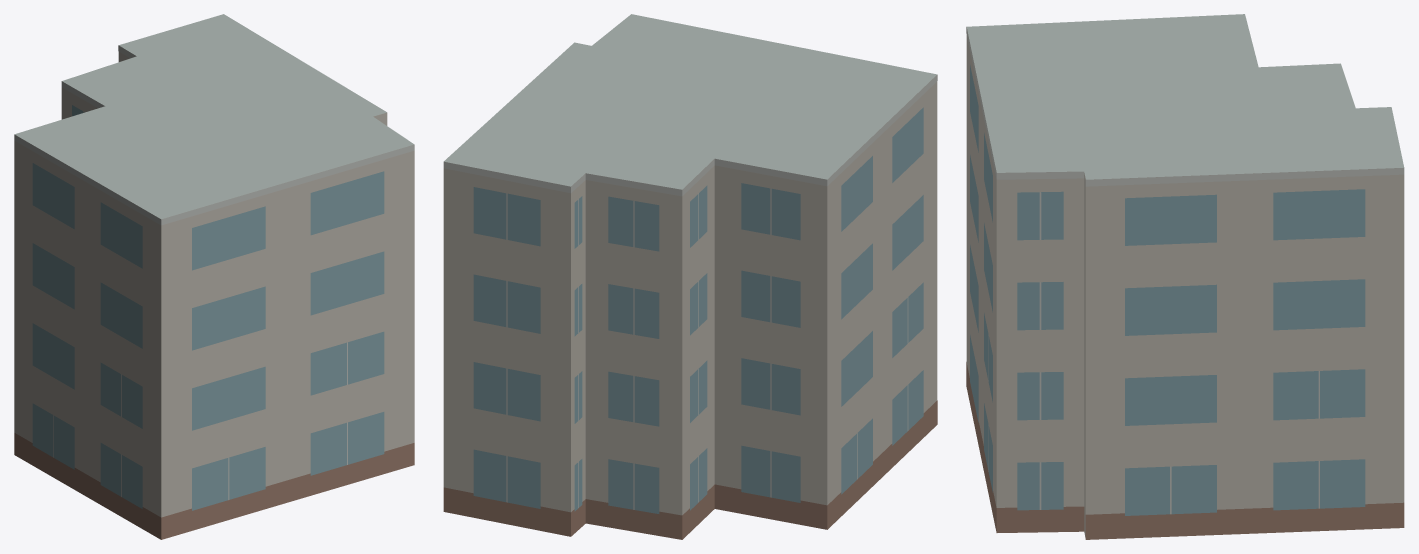
Rendered from survey-upis-32634747.glb.
3 views of the same model, side by side, from view 1: azimuth 30°, elevation 25°; view 2: azimuth 150°, elevation 25°; view 3: azimuth 270°, elevation 25° (orthographic). The views are drawn at different scales.
Parts seen in each view (by area): view 1: survey-upis-32634747.tmp; view 2: survey-upis-32634747.tmp; view 3: survey-upis-32634747.tmp.
Part boxes in pixels (x1,y1,x2,y2): survey-upis-32634747.tmp: (14,14,414,539); survey-upis-32634747.tmp: (443,14,937,539); survey-upis-32634747.tmp: (966,14,1404,539).
Size of the model in its own units: 12.64 by 12.8 by 14.11.
